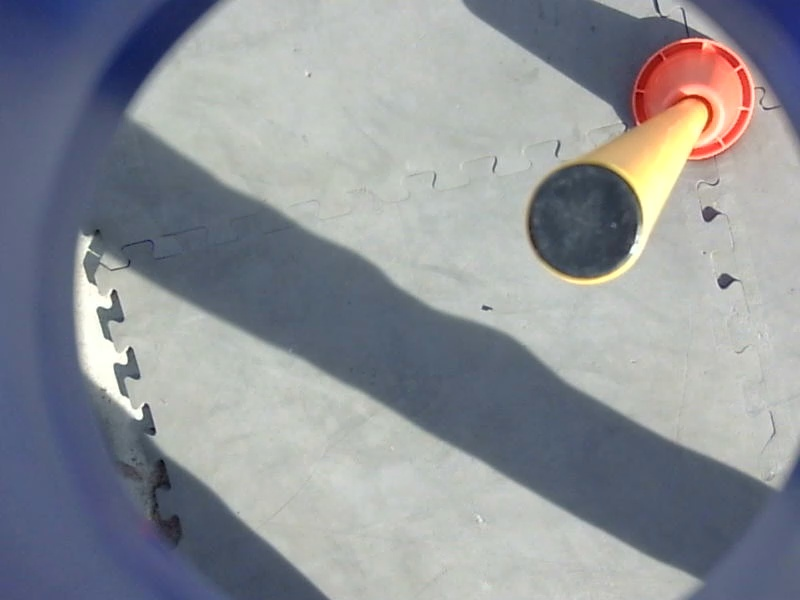tip: (518, 155, 650, 295)
